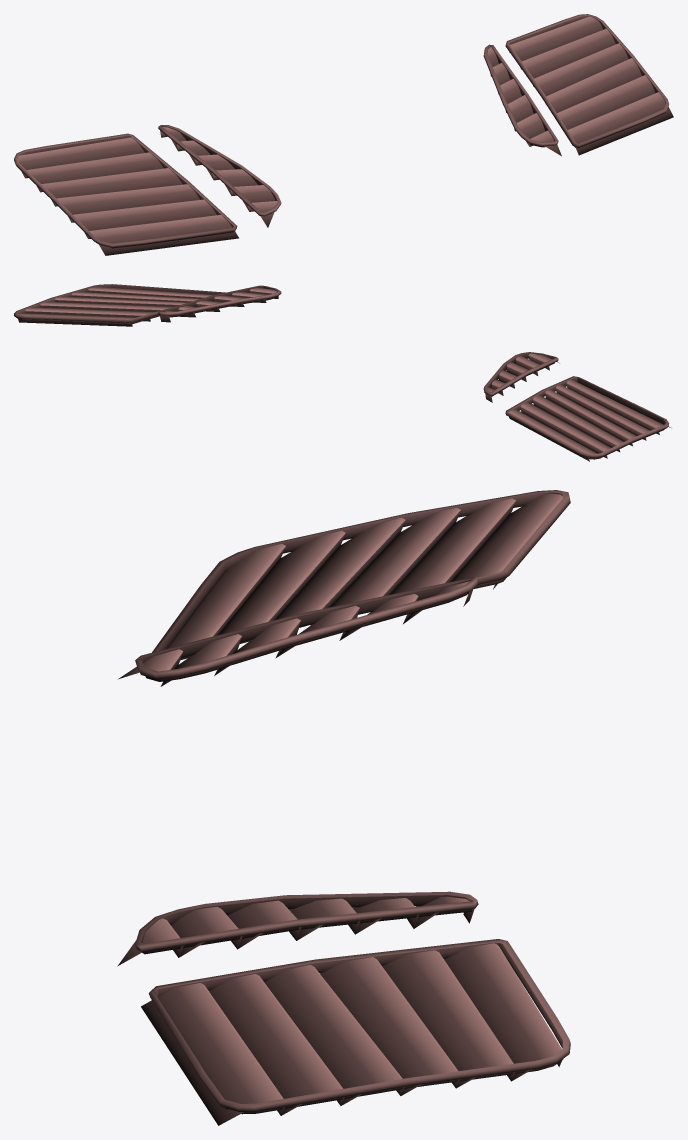
Rendered from AdamLZ_E36_Hood_Trim.fbx.
The picture shows the model from 3 angles, top to bottom: view 1: azimuth 30°, elevation 25°; view 2: azimuth 150°, elevation 25°; view 3: azimuth 270°, elevation 25°; orthographic projection. The views are drawn at different scales.
Visible parts, largest first — view 1: AdamLZ_E36_Hood_Trim; view 2: AdamLZ_E36_Hood_Trim; view 3: AdamLZ_E36_Hood_Trim.
Part boxes in pixels (left/top/right/bottom): AdamLZ_E36_Hood_Trim: left=14, top=14, right=673, bottom=255; AdamLZ_E36_Hood_Trim: left=14, top=284, right=670, bottom=461; AdamLZ_E36_Hood_Trim: left=117, top=490, right=570, bottom=1125.
Bounding box in the file's own units: 123 × 10.92 × 41.26.
